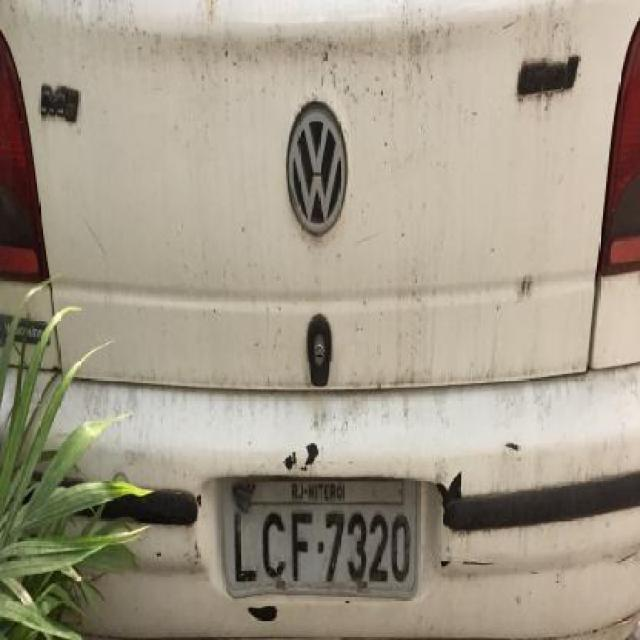old_plate: (216, 473, 427, 602)
